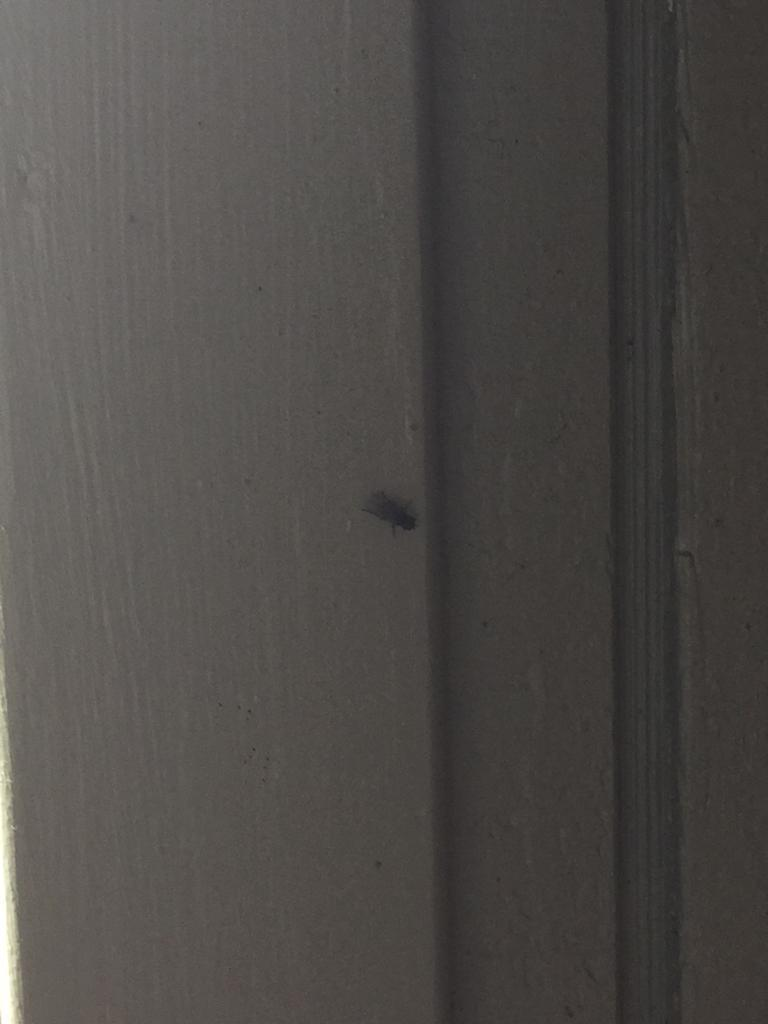ladybug: (360, 491, 421, 539)
